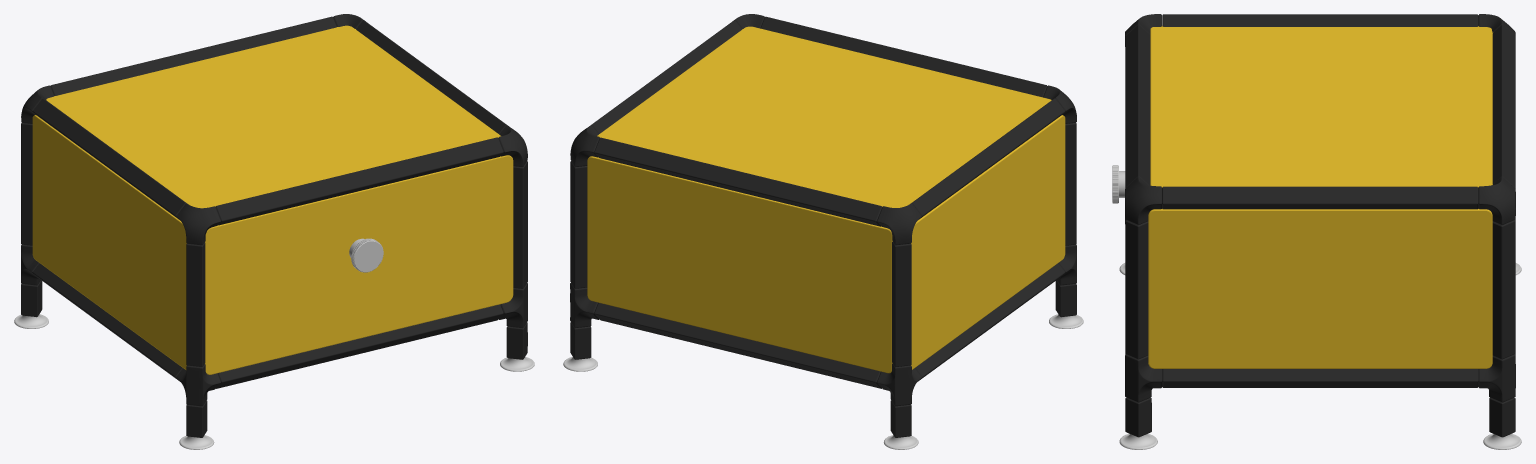
The picture shows the model from 3 angles, left to right: view 1: azimuth 30°, elevation 25°; view 2: azimuth 150°, elevation 25°; view 3: azimuth 270°, elevation 25°; orthographic projection. The views are drawn at different scales.
Parts seen in each view (by area): view 1: 374x329x154; view 2: 374x329x154; view 3: 374x329x154.
Boxes of the visible parts, x1=… form: 374x329x154: x1=14, y1=14, x2=534, y2=449; 374x329x154: x1=563, y1=14, x2=1083, y2=449; 374x329x154: x1=1112, y1=14, x2=1521, y2=449.
Bounding box in the file's own units: 0.4639 × 0.2933 × 0.4256.
